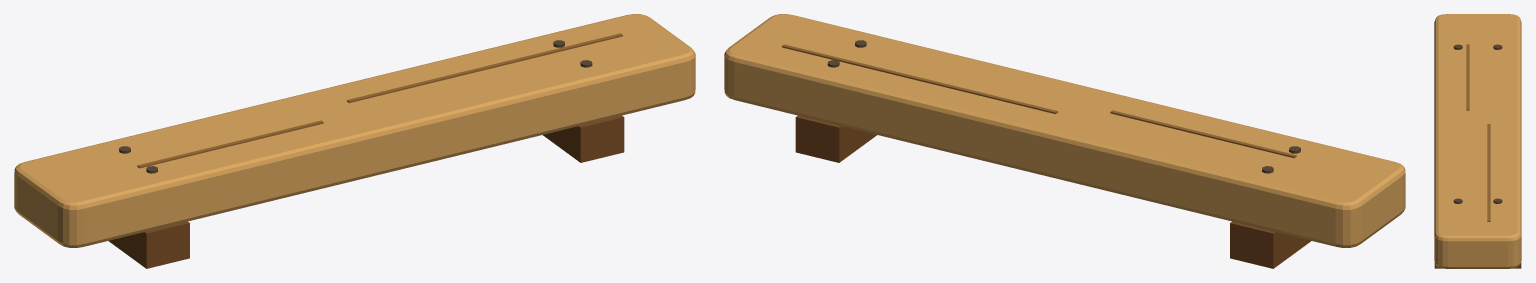
The model's file is bridge_plank_A.glb.
3 renders of one model, left to right at view 1: azimuth 30°, elevation 25°; view 2: azimuth 150°, elevation 25°; view 3: azimuth 270°, elevation 25°, orthographic. The views are drawn at different scales.
Parts seen in each view (by area): view 1: bridge_plank_A; view 2: bridge_plank_A; view 3: bridge_plank_A.
Part boxes in pixels (left/top/right/bottom): bridge_plank_A: left=14, top=14, right=695, bottom=268; bridge_plank_A: left=724, top=14, right=1405, bottom=268; bridge_plank_A: left=1434, top=14, right=1521, bottom=268.
Bounding box in the file's own units: 2.63 × 0.33 × 0.43.
